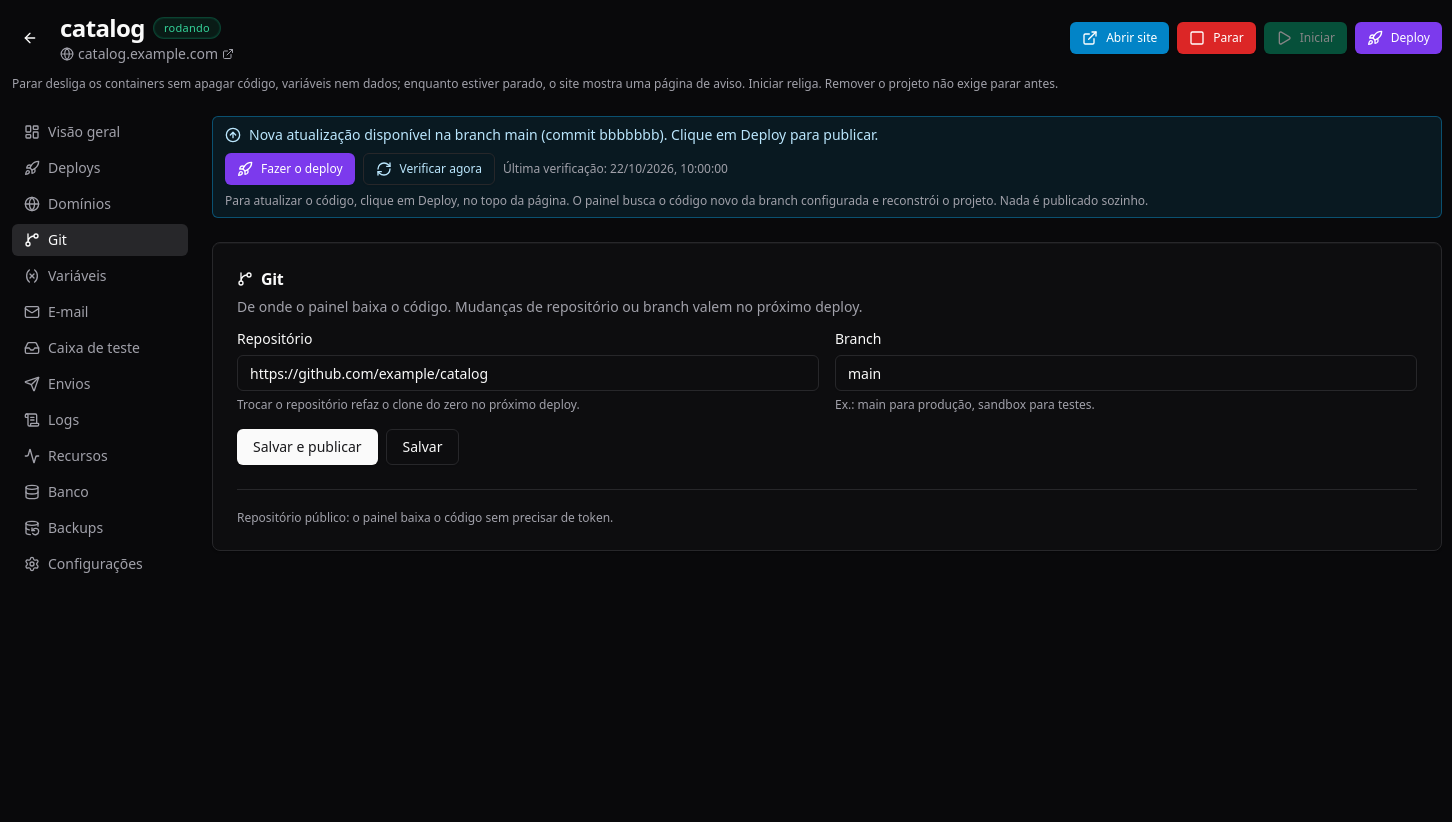
página do projeto — aba Git › Verificar agora recusado por limite (429): mantém o estado e diz que o limite foi atingido, não 'o painel não respondeu'
Step 1. Click the button "Verificar agora" → point(429, 169), box left=363, top=153, right=495, bottom=185
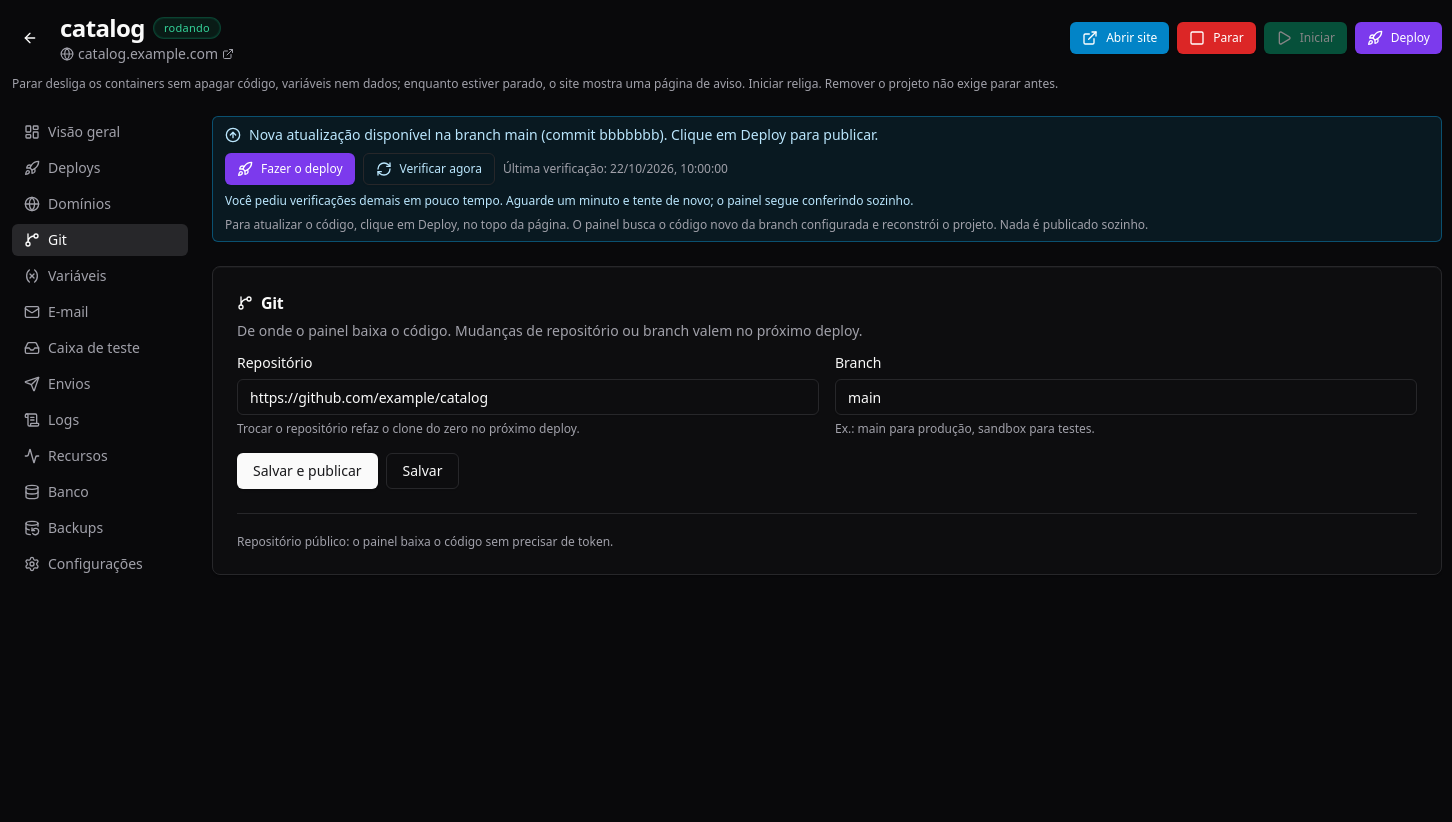
Expected: the element with test id "update-notice-git" shows "Nova atualização disponível", left=249, top=125, right=878, bottom=144
Result: the element with test id "update-notice-git" shows "pediu verificações demais" at left=225, top=192, right=914, bottom=209
